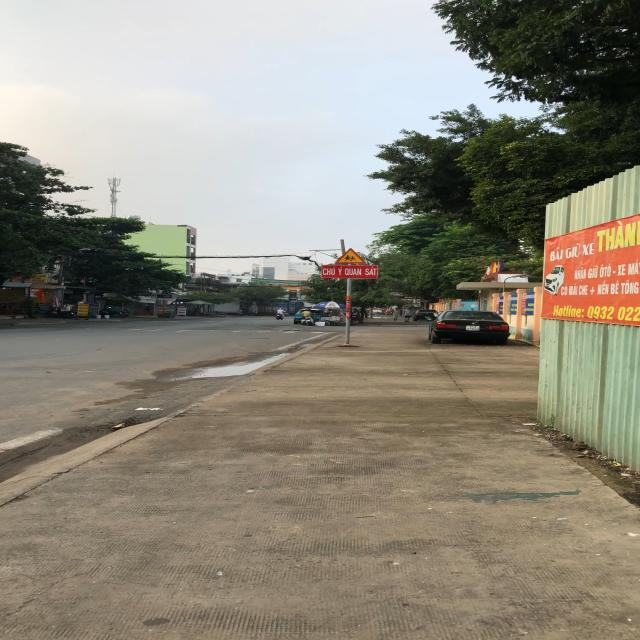Bien bao tre em: (333, 247, 368, 265)
